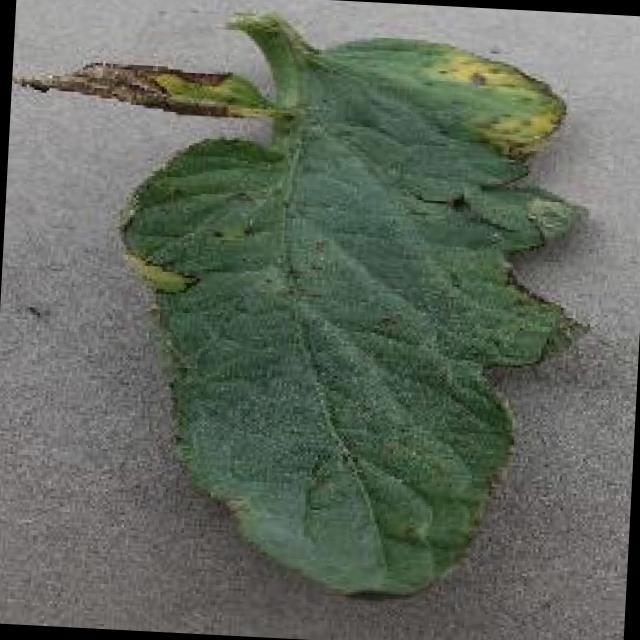Tomato bacterial spot leaf: (0, 14, 613, 619)
